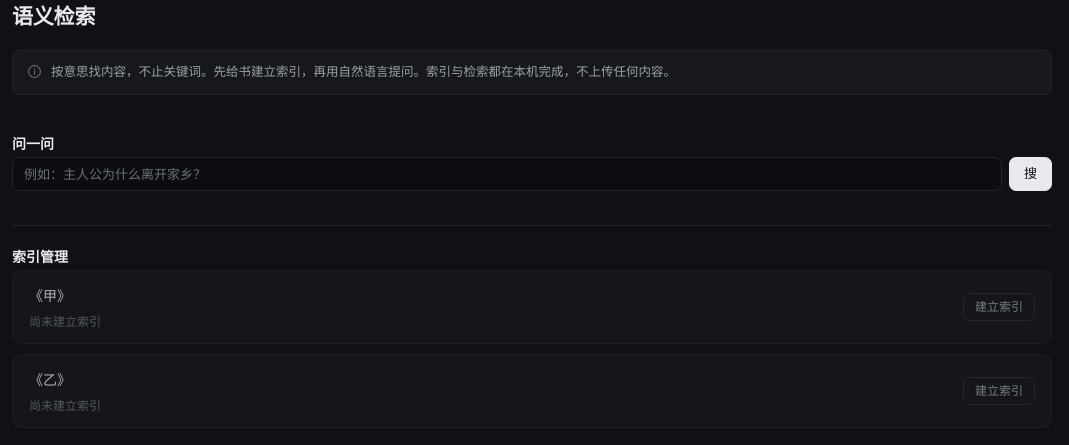
语义检索的中断 › 同时只允许建一本书，避免两个索引互相覆盖
Click the 1st button "建立索引".
click(999, 307)  # box [963,293,1035,321]
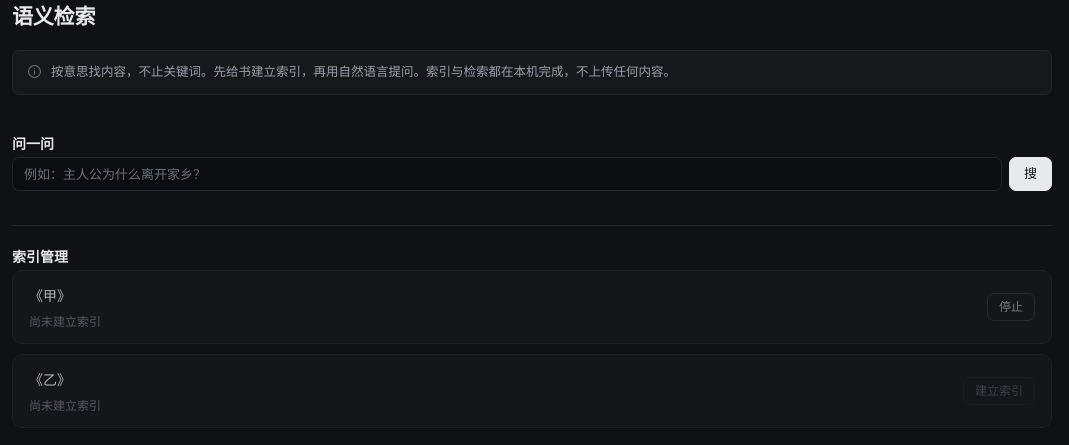
Result: the button "建立索引" is disabled at [963,377,1035,405]
